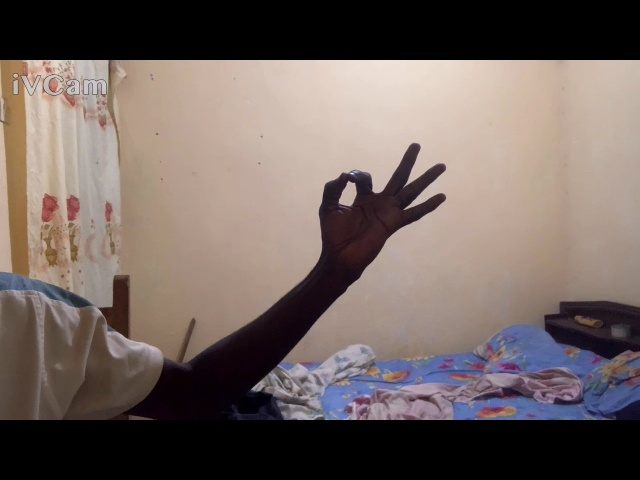oui: (308, 136, 453, 274)
